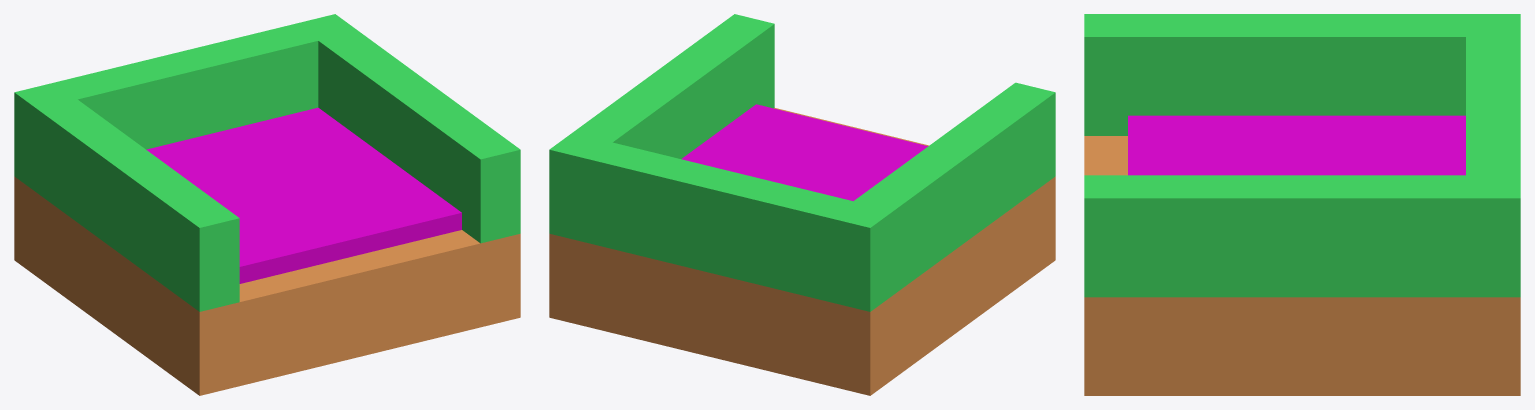
The model's file is ExitPoint.fbx.
3 views of the same model, side by side, from view 1: azimuth 30°, elevation 25°; view 2: azimuth 150°, elevation 25°; view 3: azimuth 270°, elevation 25° (orthographic). The views are drawn at different scales.
Parts seen in each view (by area): view 1: ExitPoint; view 2: ExitPoint; view 3: ExitPoint.
Part boxes in pixels (left/top/right/bottom): ExitPoint: left=14, top=14, right=520, bottom=395; ExitPoint: left=549, top=14, right=1055, bottom=395; ExitPoint: left=1084, top=14, right=1520, bottom=395.
Size of the model in its own units: 100 by 50 by 100.
